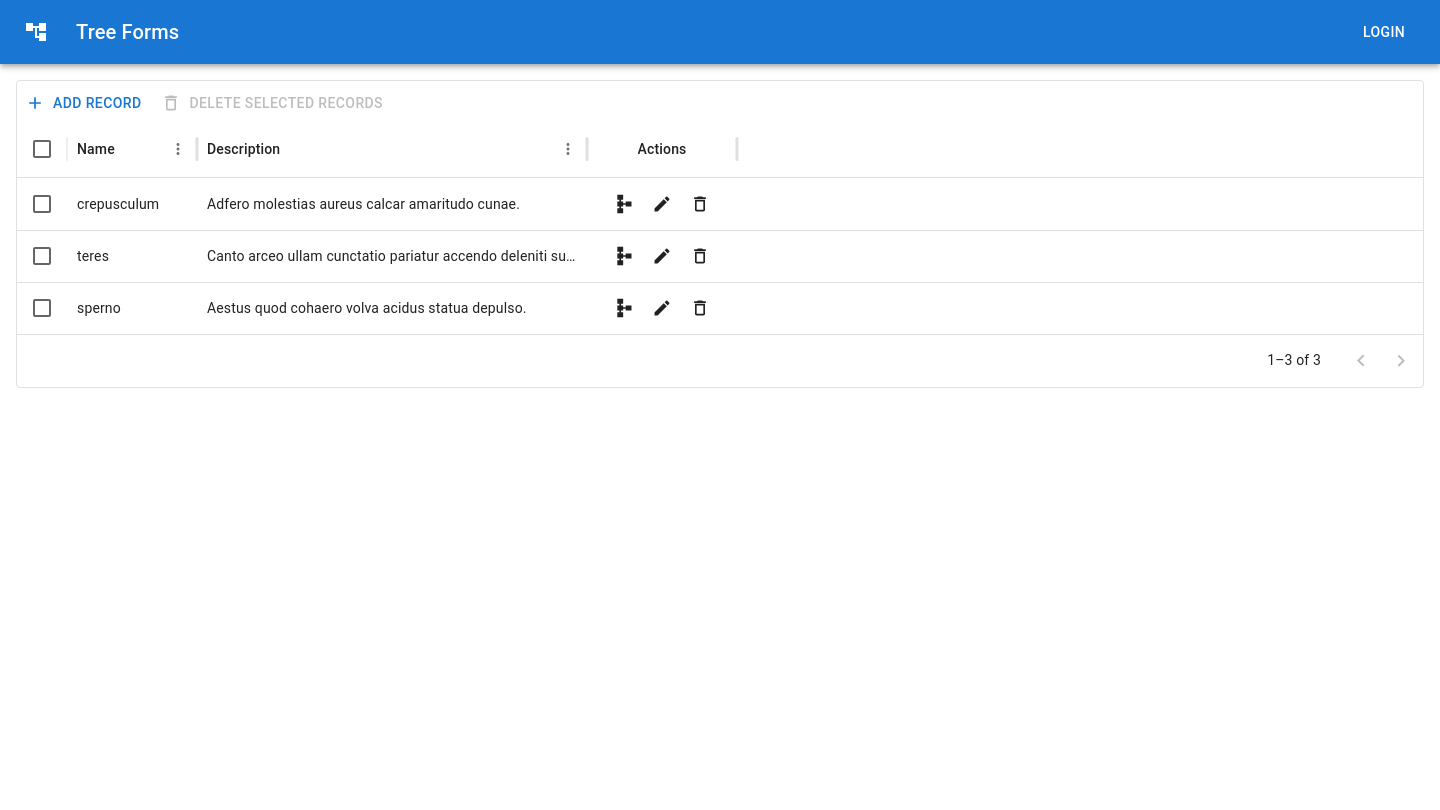
Test: bulk delete › should display snackbar when the API returns an error
Click the 2nd row: coordinates (372, 204) [30,189,715,219]
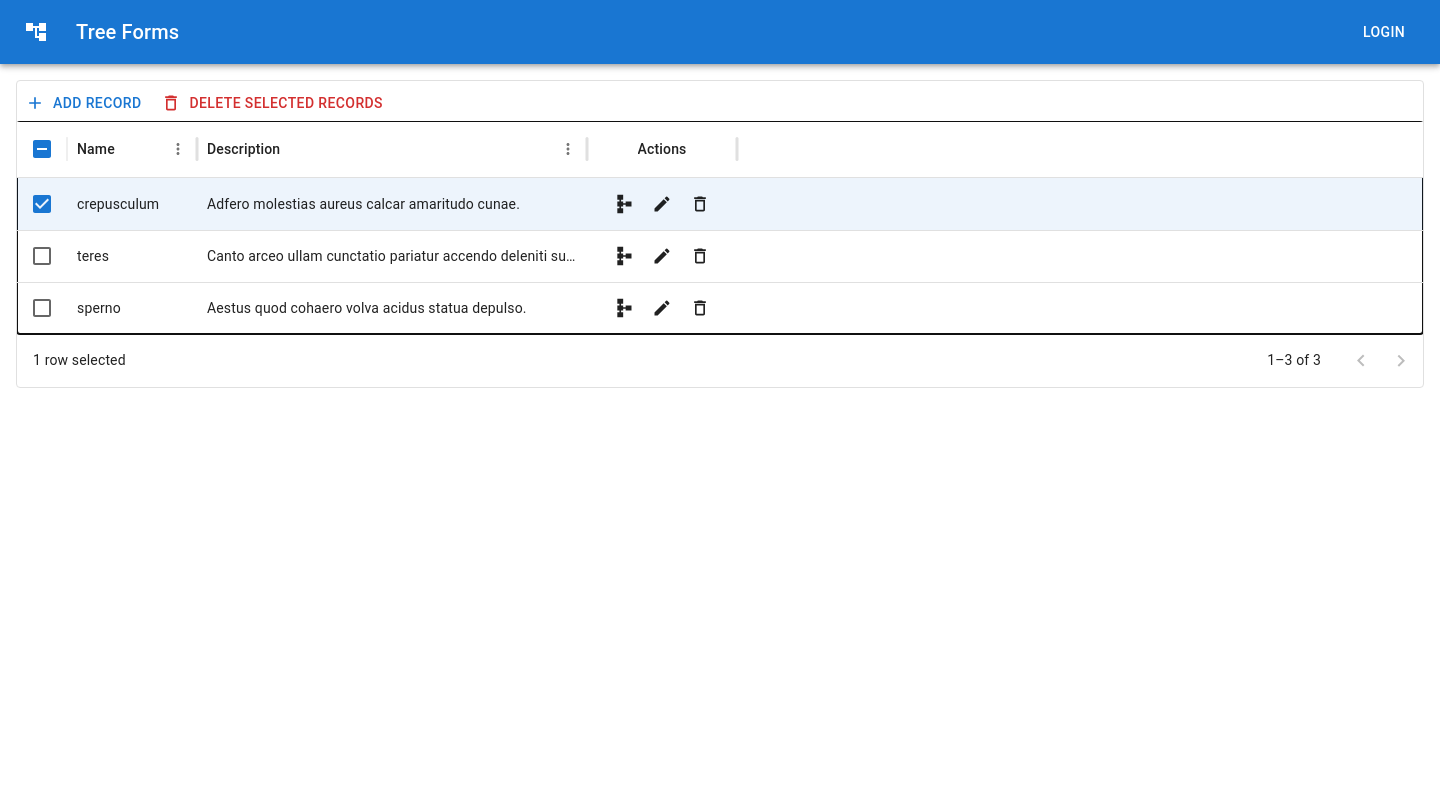
Click the 3rd row: coordinates (720, 256) [17,230,1423,282]
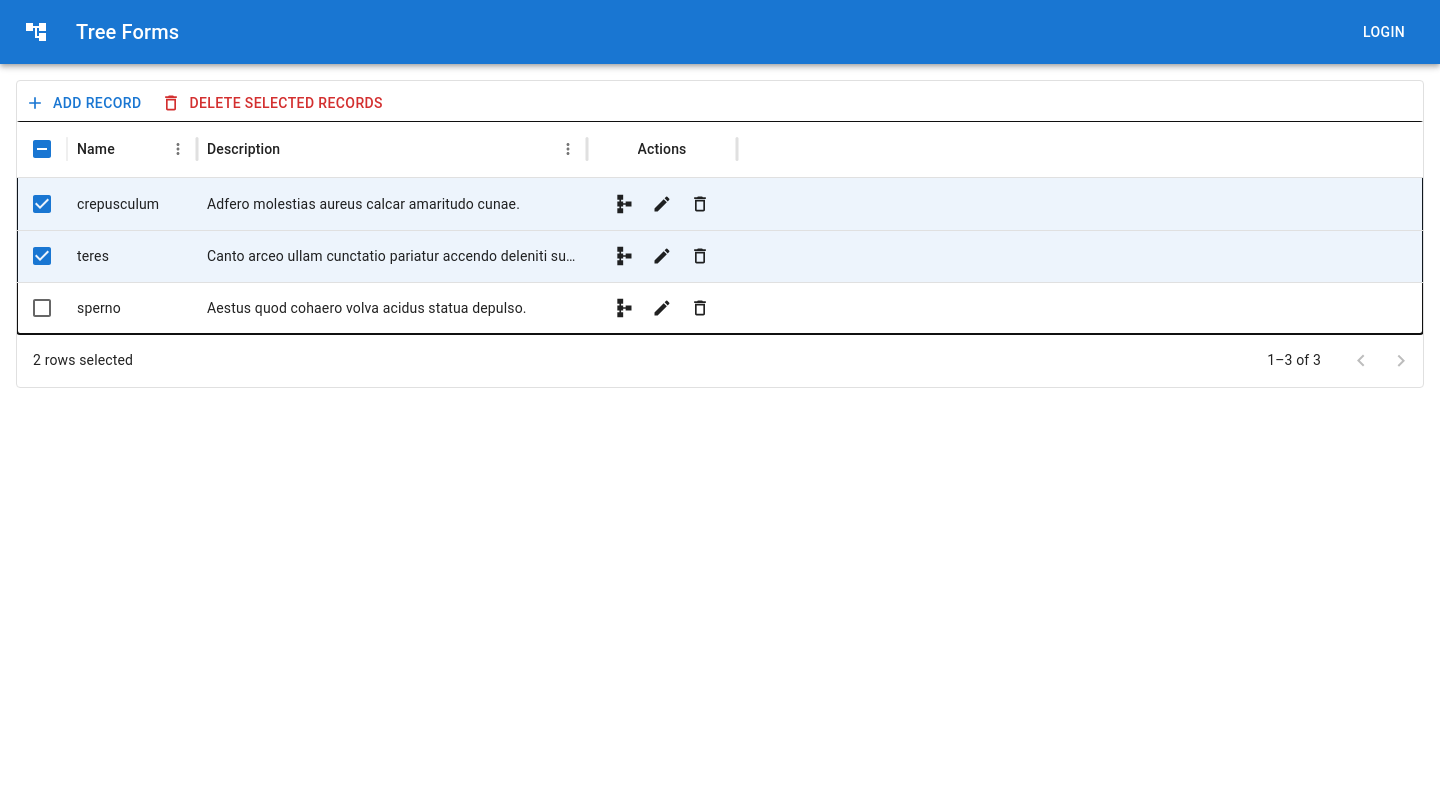
Click the button with test id "bulk-delete-button": coordinates (274, 103) [158,85,391,122]
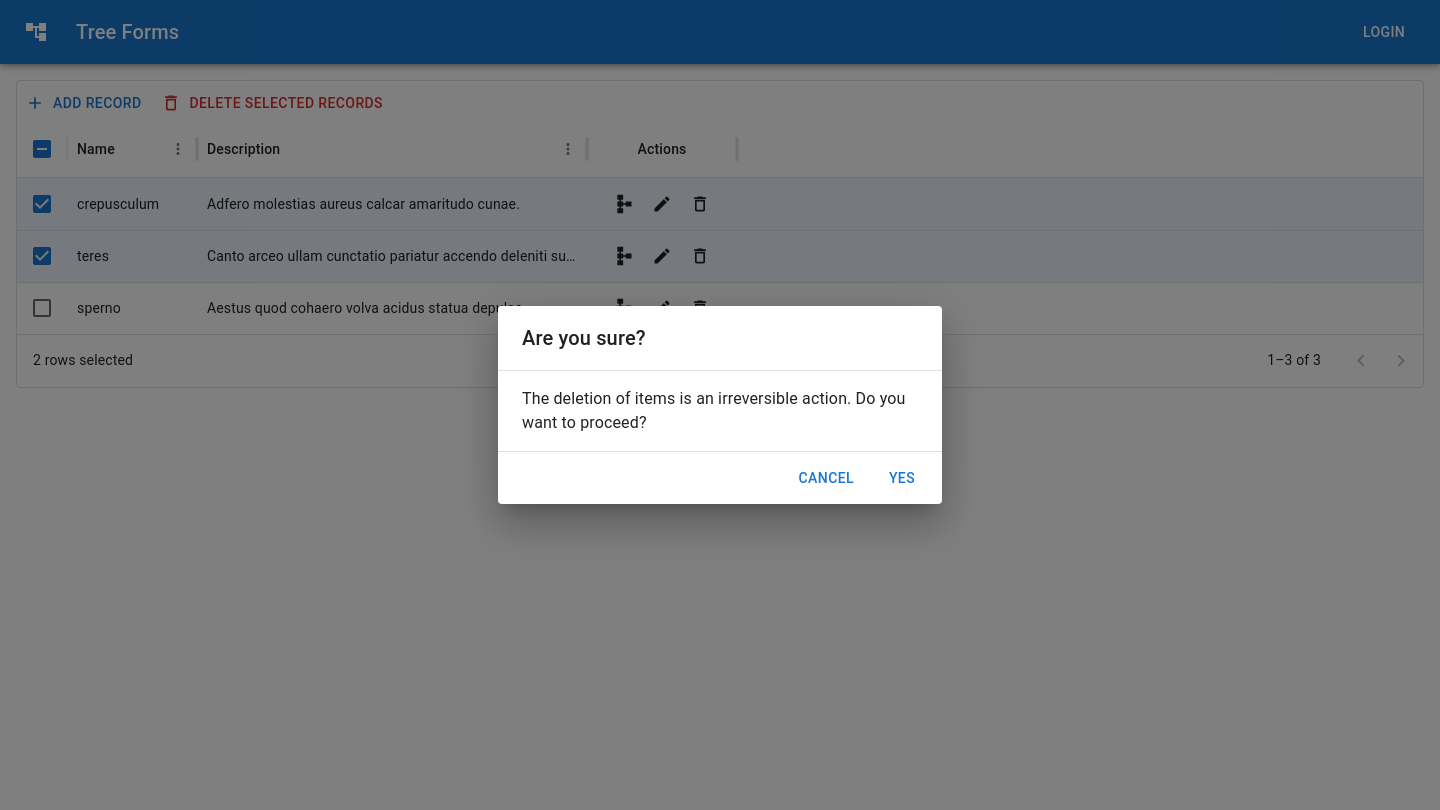
Click the button with test id "confirm-button": coordinates (902, 478) [870,460,934,496]
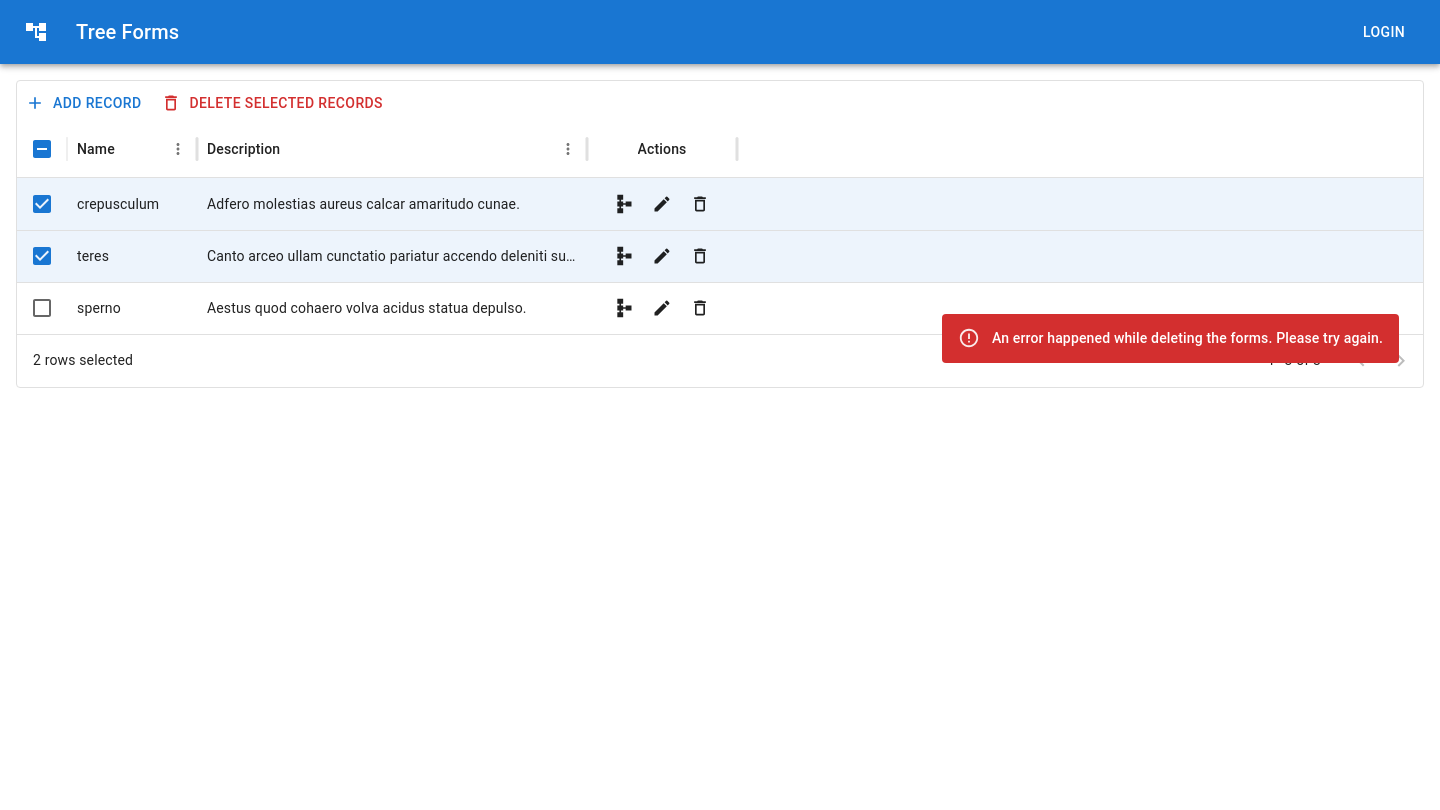
Expected: the element with test id "snackbar" is shown, [942,314,1399,362]
Expected: the element with test id "snackbar" reads "An error happened while deleting the forms. Please try again.", [992,330,1383,346]
